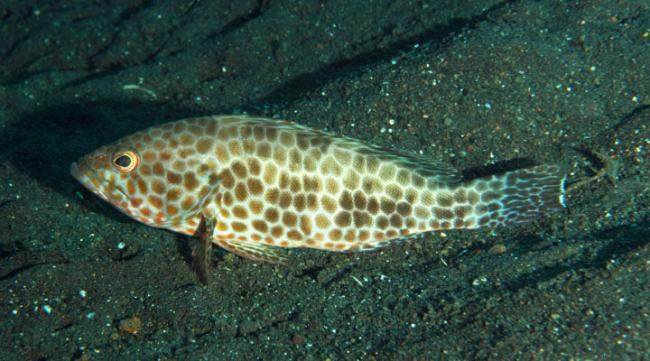fish: (69, 114, 572, 287)
